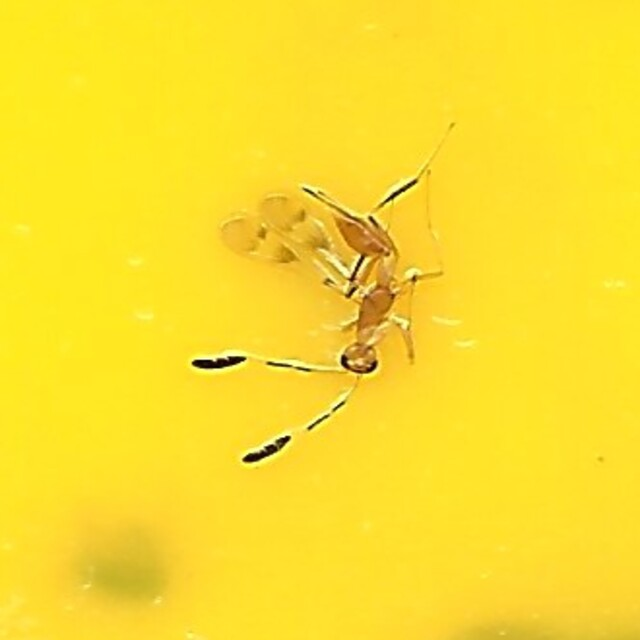Hymenoptera: (194, 173, 446, 467)
